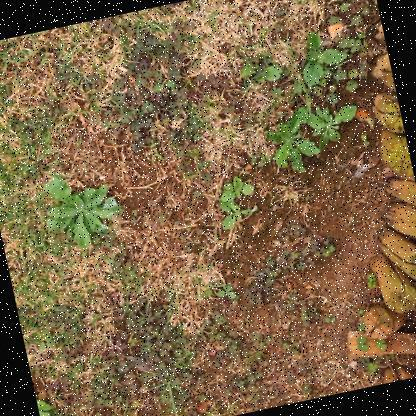Weeds: (37, 159, 131, 255), (263, 104, 322, 177), (296, 27, 351, 89), (305, 100, 363, 151), (31, 373, 75, 415), (216, 192, 261, 232), (242, 60, 286, 89), (218, 174, 256, 204), (215, 282, 236, 303)
